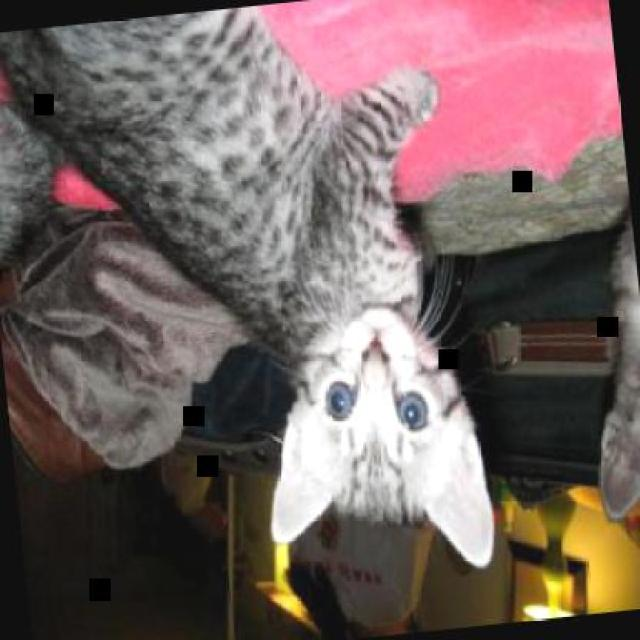cat: (0, 0, 502, 617), (568, 203, 638, 523)
